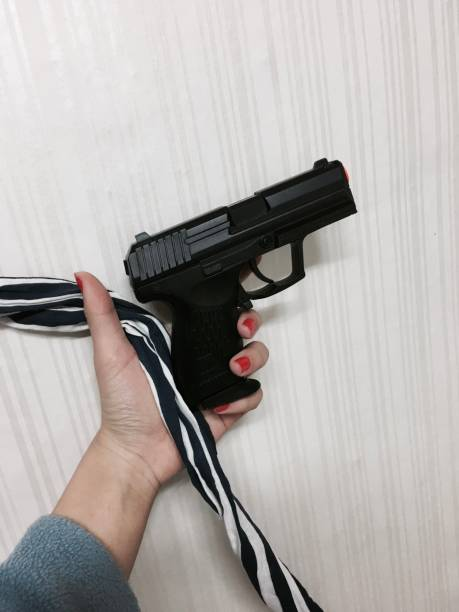pistol: (123, 157, 372, 414)
